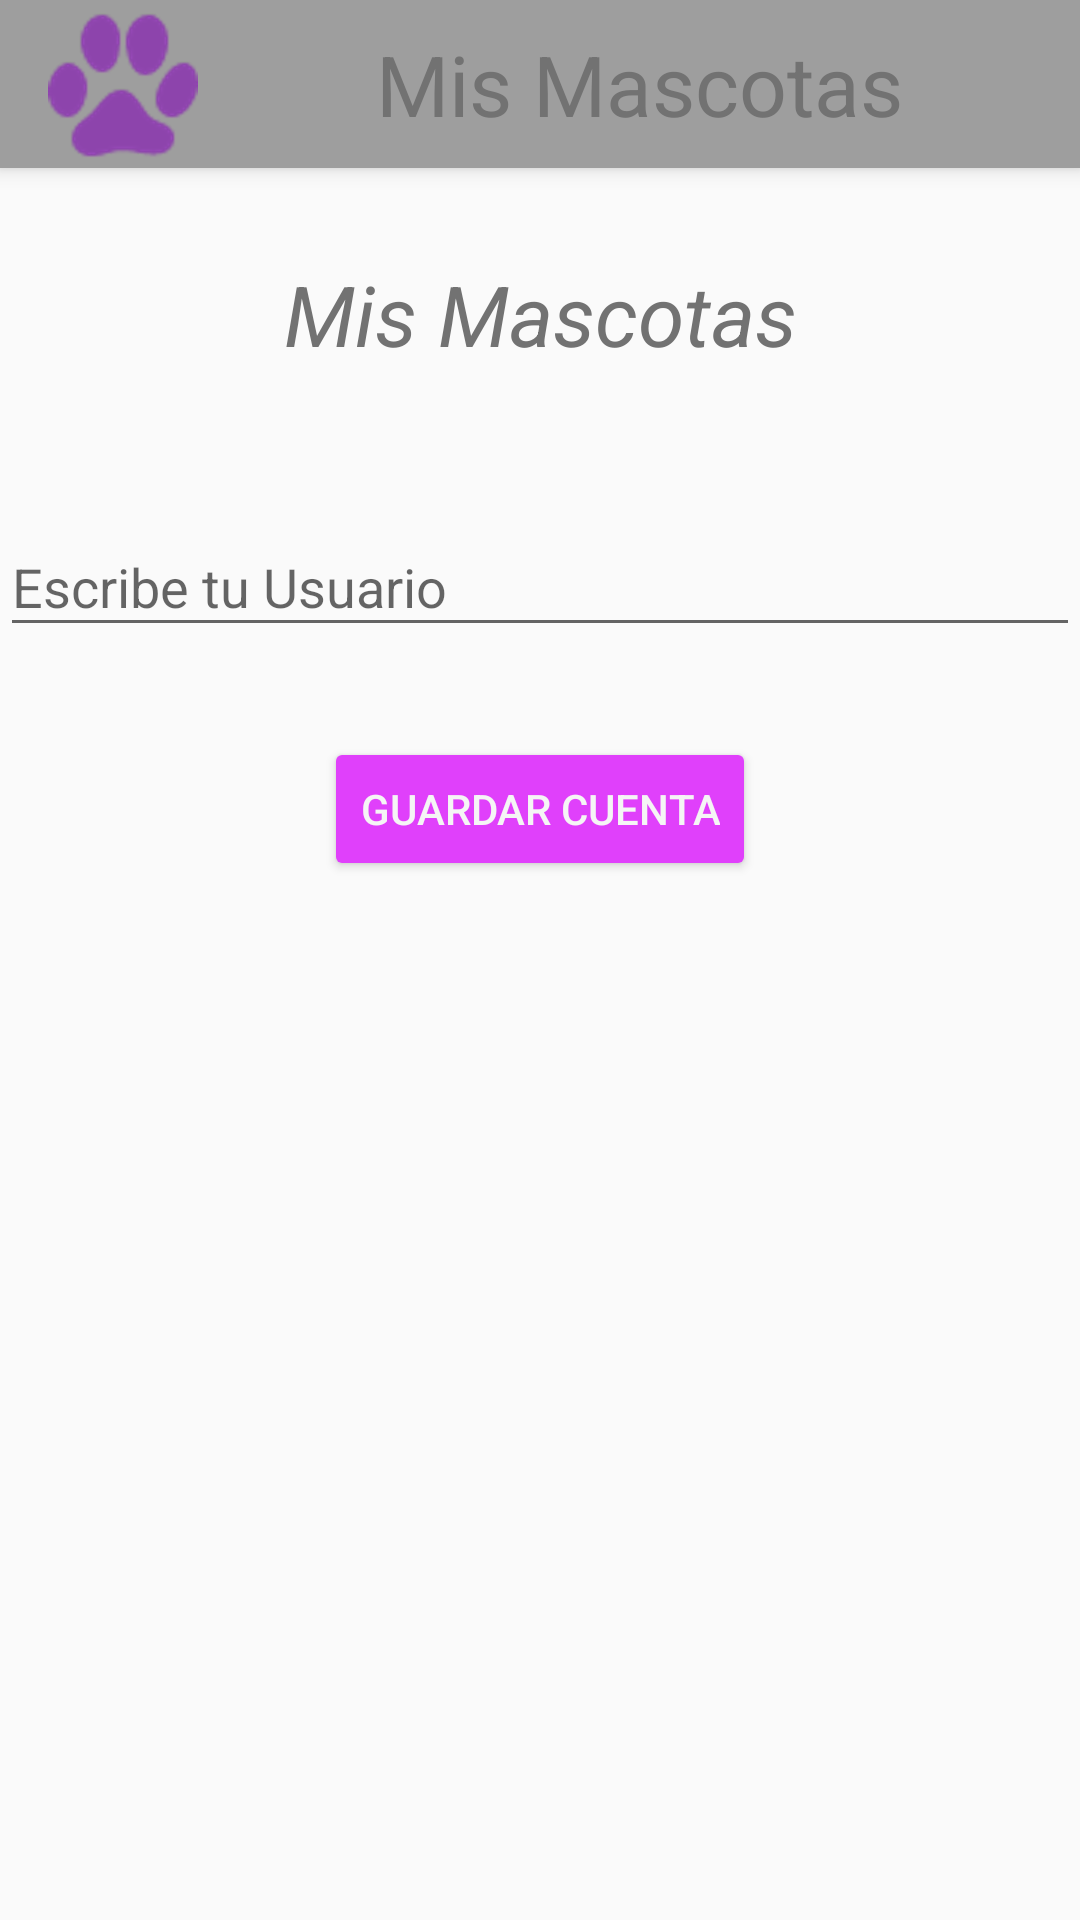

Icons on this 1080w x 1920h Android screen, each with the point to tap as [x,y]:
footprint: [123,85]
